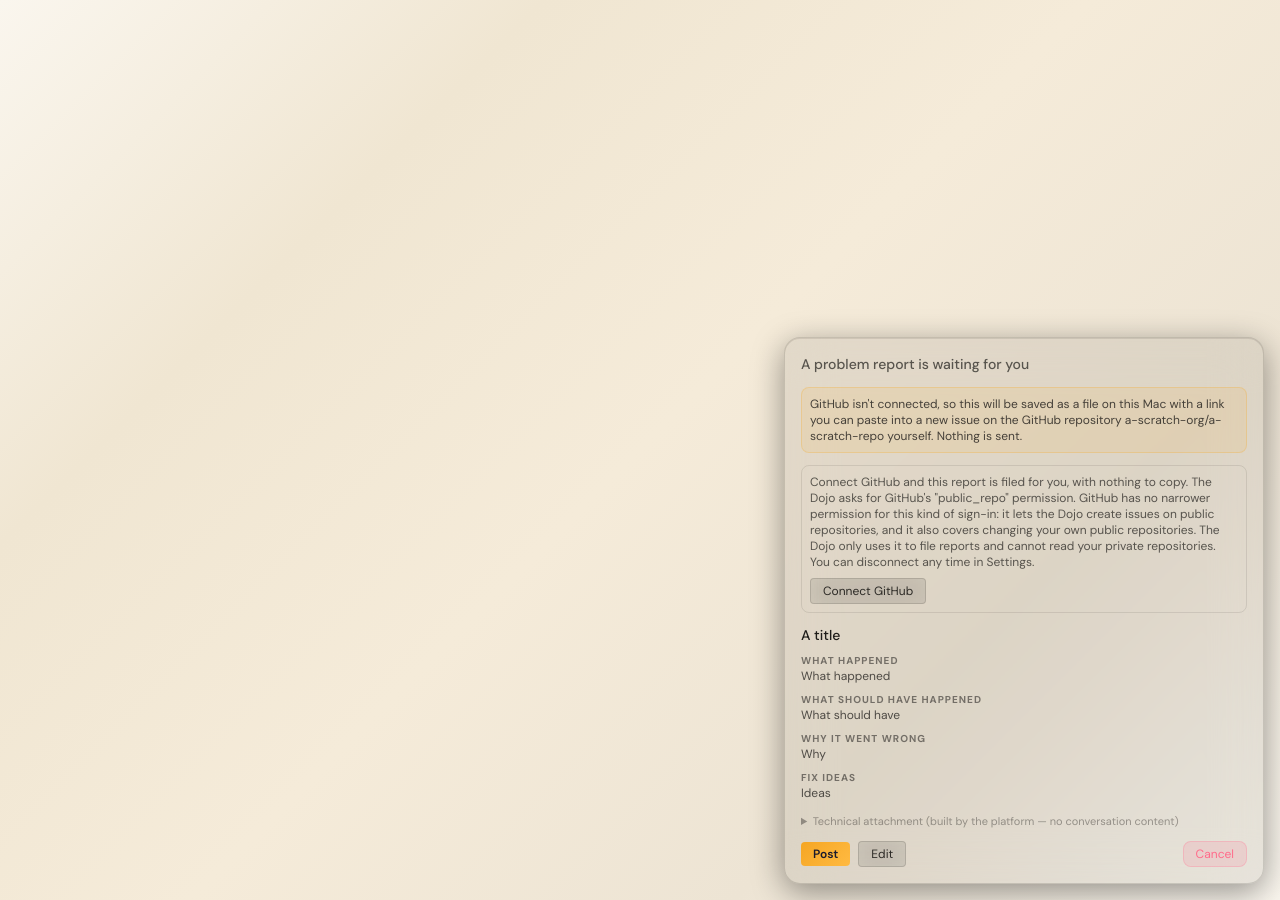
Test: an unconnected box is offered Connect GitHub on the report card › pressing it starts the existing sign-in and shows the code to type
This screenshot has width=1280, height=900.
Expected: the text "A title" is shown, [801, 626, 840, 644]
Click the button "Connect GitHub" at (868, 590), box [810, 578, 926, 604]
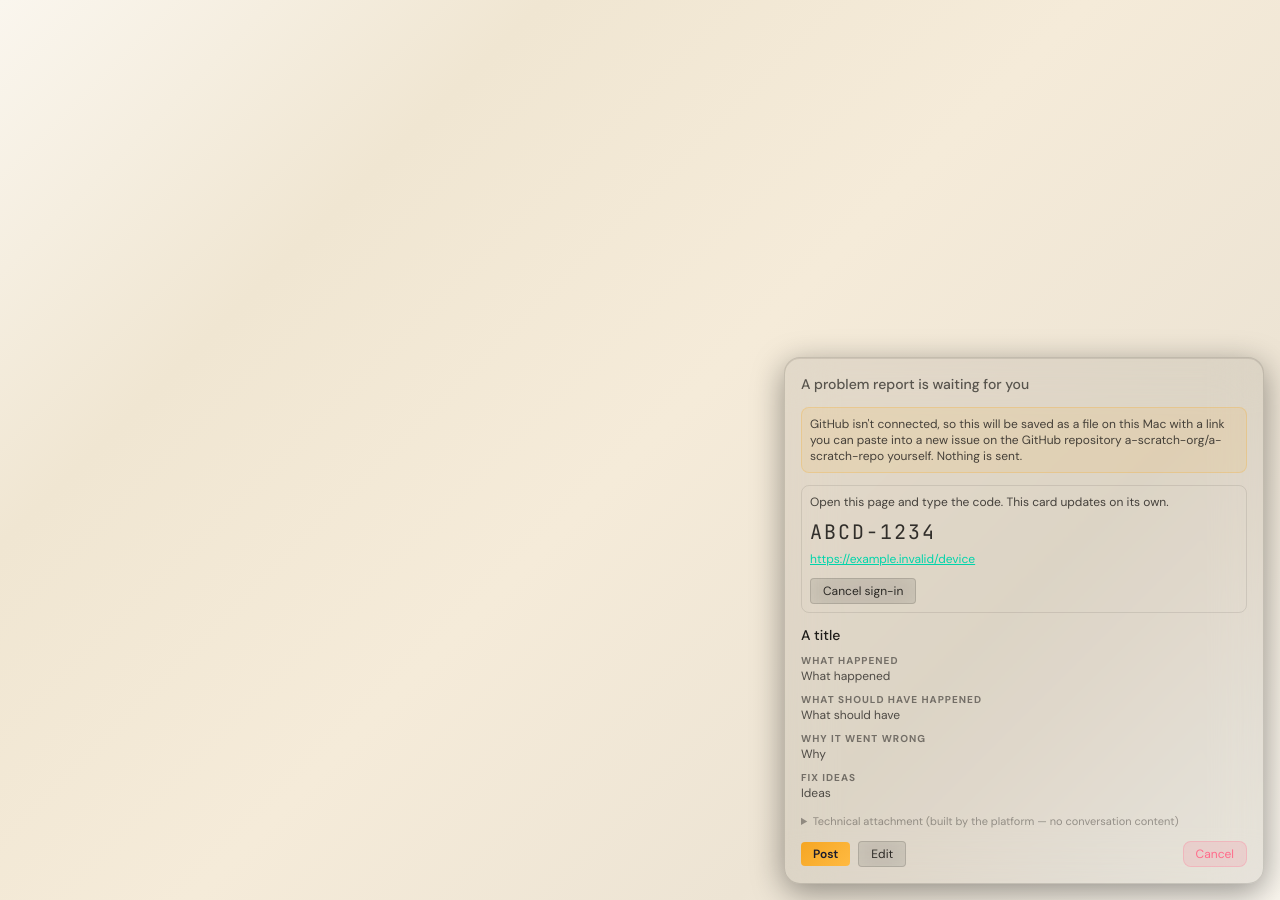
Expected: the text "ABCD-1234" is shown, [810, 518, 936, 544]
Expected: the link "https://example.invalid/device" is shown, [810, 550, 975, 566]
